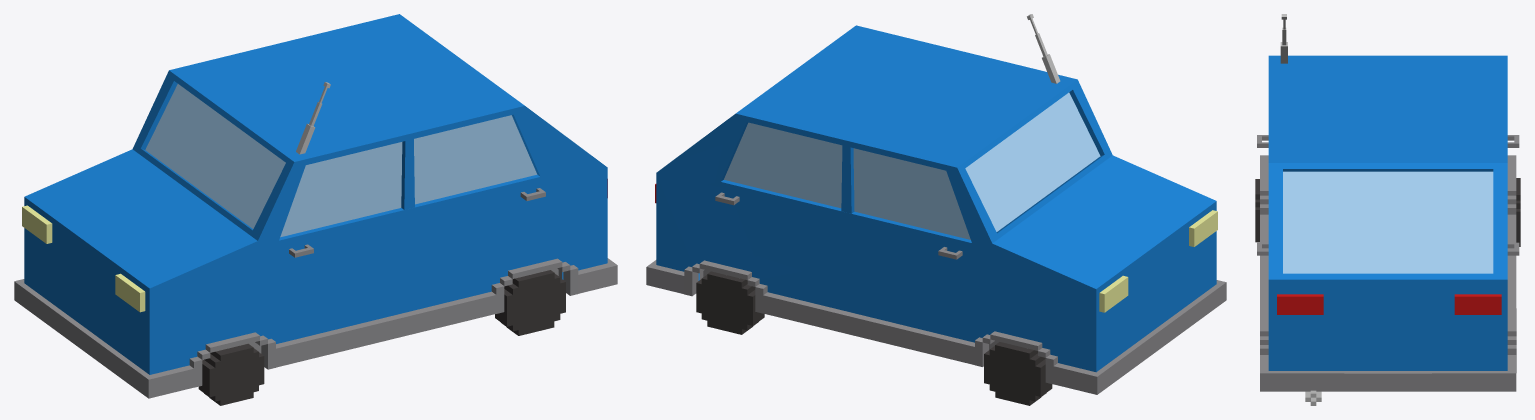
File: car.fbx
3 views of the same model, side by side, from view 1: azimuth 30°, elevation 25°; view 2: azimuth 150°, elevation 25°; view 3: azimuth 270°, elevation 25° (orthographic). The views are drawn at different scales.
Visible parts, largest first — view 1: pCube58; view 2: pCube58; view 3: pCube58.
Part boxes in pixels (x1=…): pCube58: x1=14, y1=14, x2=617, y2=405; pCube58: x1=646, y1=14, x2=1226, y2=405; pCube58: x1=1255, y1=14, x2=1520, y2=405.
Size of the model in its own units: 76.4 by 44.23 by 38.7.
1 material, 1 textured.
